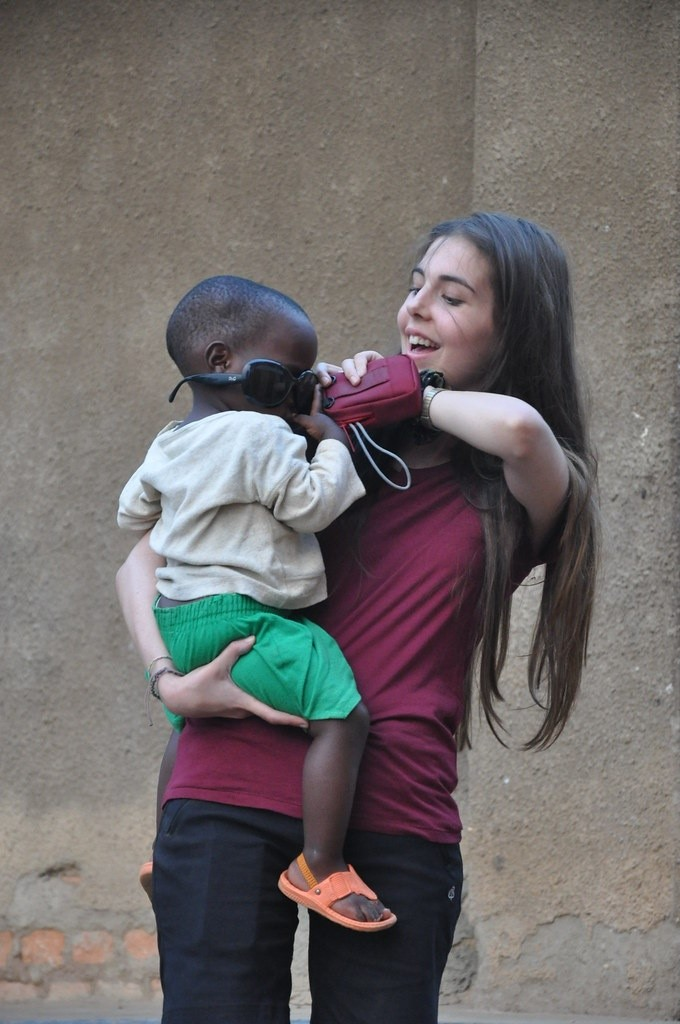face_no_mask: (398, 211, 569, 394)
